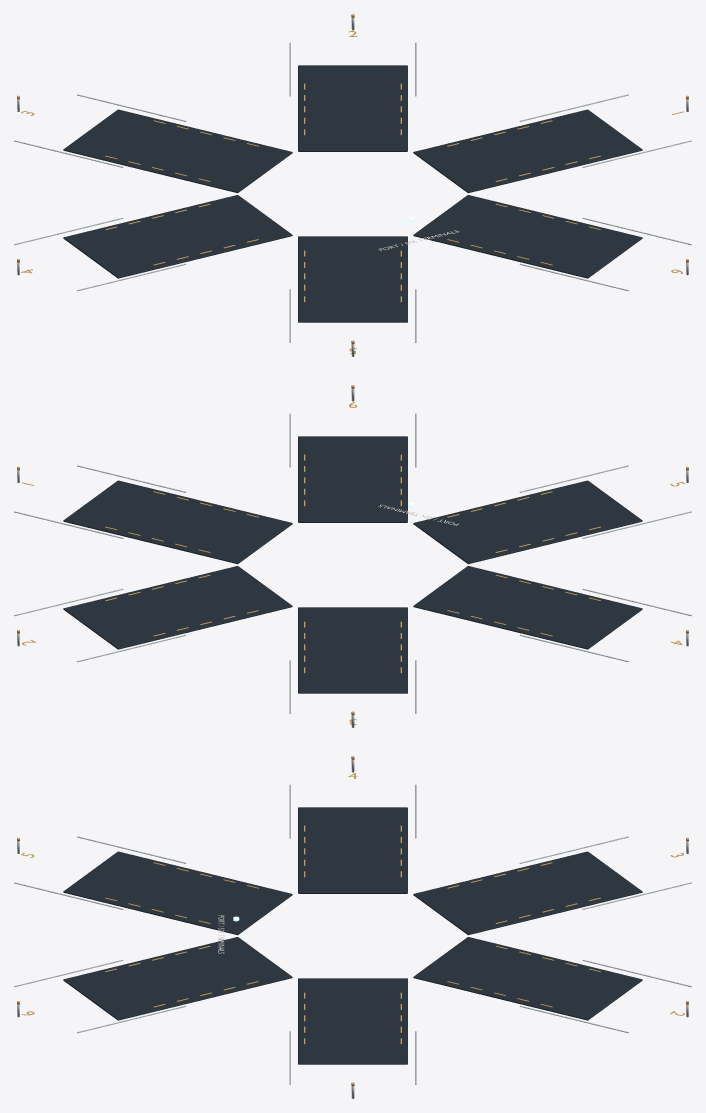
File: depot-apron.glb
The picture shows the model from 3 angles, top to bottom: view 1: azimuth 30°, elevation 25°; view 2: azimuth 150°, elevation 25°; view 3: azimuth 270°, elevation 25°; orthographic projection.
Parts seen in each view (by area): view 1: depot-apron_ROOT__02_Graphite_chassis, depot-apron_ROOT__07_Machined_titanium, depot-apron_ROOT__05_Gold_thermal_blanket; view 2: depot-apron_ROOT__02_Graphite_chassis, depot-apron_ROOT__07_Machined_titanium, depot-apron_ROOT__05_Gold_thermal_blanket; view 3: depot-apron_ROOT__02_Graphite_chassis, depot-apron_ROOT__07_Machined_titanium, depot-apron_ROOT__05_Gold_thermal_blanket.
Boxes of the visible parts, <box> form: depot-apron_ROOT__02_Graphite_chassis: <box>63,65,642,322</box>; depot-apron_ROOT__07_Machined_titanium: <box>14,14,691,356</box>; depot-apron_ROOT__05_Gold_thermal_blanket: <box>21,31,683,353</box>; depot-apron_ROOT__02_Graphite_chassis: <box>63,436,642,693</box>; depot-apron_ROOT__07_Machined_titanium: <box>14,385,691,727</box>; depot-apron_ROOT__05_Gold_thermal_blanket: <box>22,402,684,724</box>; depot-apron_ROOT__02_Graphite_chassis: <box>63,807,642,1064</box>; depot-apron_ROOT__07_Machined_titanium: <box>14,756,691,1098</box>; depot-apron_ROOT__05_Gold_thermal_blanket: <box>21,773,684,1044</box>.
Bounding box in the file's own units: 34.53 × 0.94 × 30.2.
